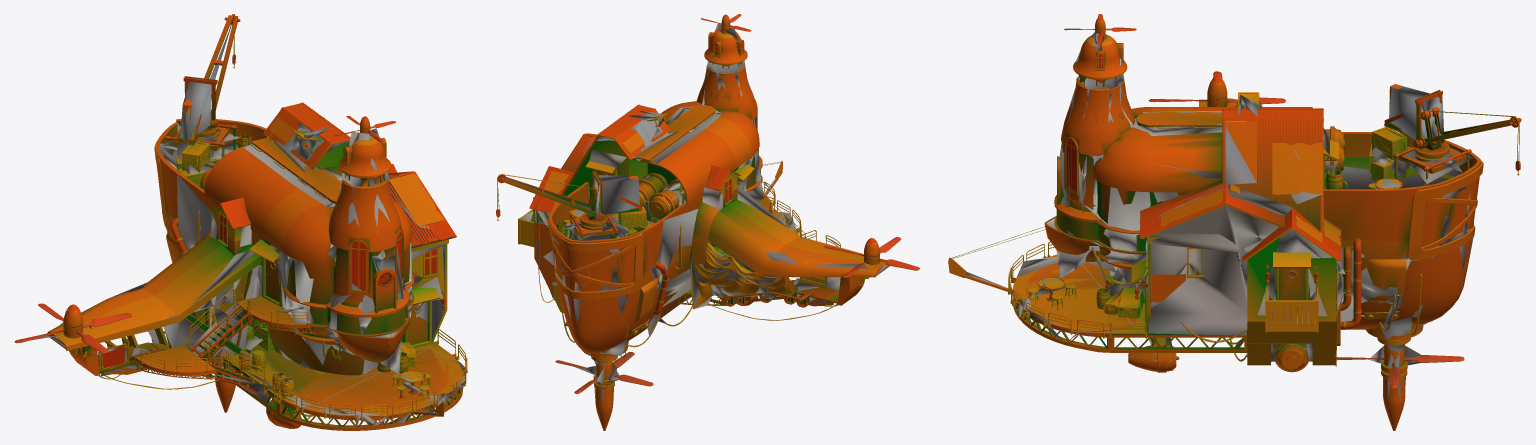
File: KB3D_CSK_BldgSmGovernorsShip_A.glb
The picture shows the model from 3 angles, left to right: view 1: azimuth 30°, elevation 25°; view 2: azimuth 150°, elevation 25°; view 3: azimuth 270°, elevation 25°; orthographic projection. The views are drawn at different scales.
Parts seen in each view (by area): view 1: L0, L2, L1; view 2: L0, L2, L1; view 3: L0, L1, L2.
Boxes of the visible parts, x1,y1,x2,y2 form: L0: [14, 14, 467, 430]; L2: [31, 16, 465, 426]; L1: [17, 15, 467, 427]; L0: [496, 14, 919, 430]; L2: [501, 23, 896, 404]; L1: [496, 16, 917, 401]; L0: [948, 14, 1521, 430]; L1: [949, 14, 1520, 397]; L2: [966, 32, 1515, 399].
Bounding box in the file's own units: 21.48 × 18.79 × 23.73.
